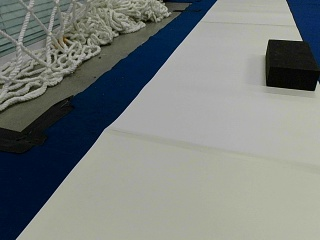block: (265, 38, 318, 90)
